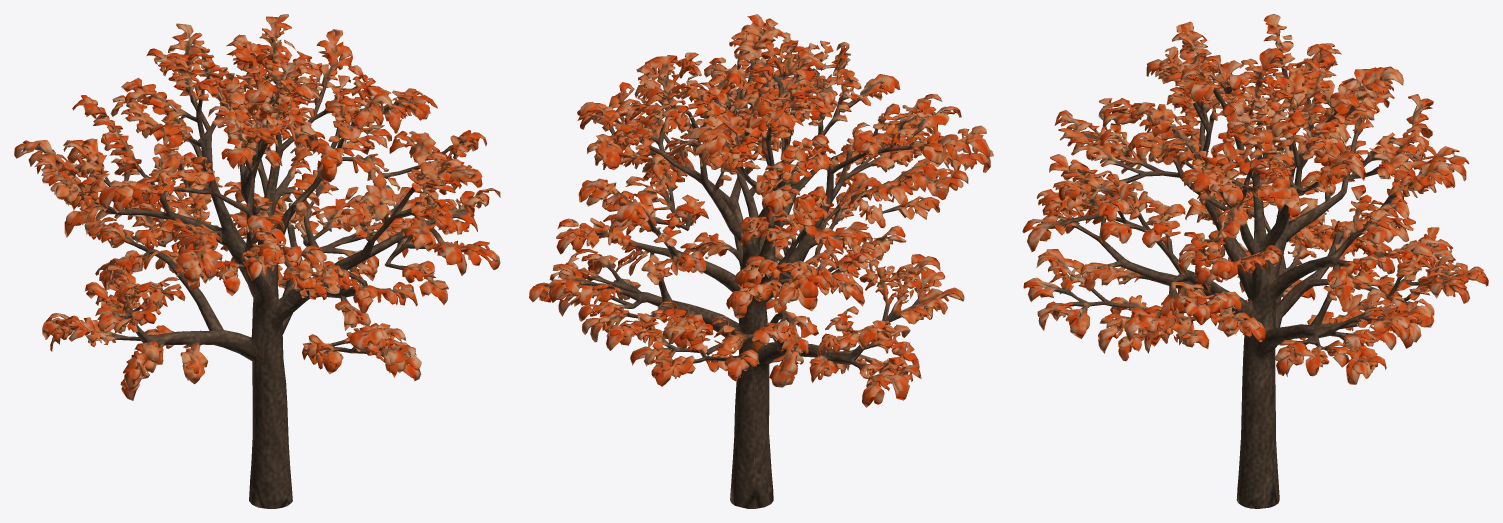
Rendered from tree_02_autumn_orange.glb.
3 renders of one model, left to right at view 1: azimuth 30°, elevation 25°; view 2: azimuth 150°, elevation 25°; view 3: azimuth 270°, elevation 25°, orthographic. The views are drawn at different scales.
Visible parts, largest first — view 1: world; view 2: world; view 3: world.
Boxes of the visible parts, bbox=[...] form: world: bbox=[14, 14, 500, 508]; world: bbox=[529, 14, 993, 508]; world: bbox=[1022, 14, 1488, 508].
Size of the model in its own units: 0.9016 by 1 by 0.9335.
1 material, 1 textured.
